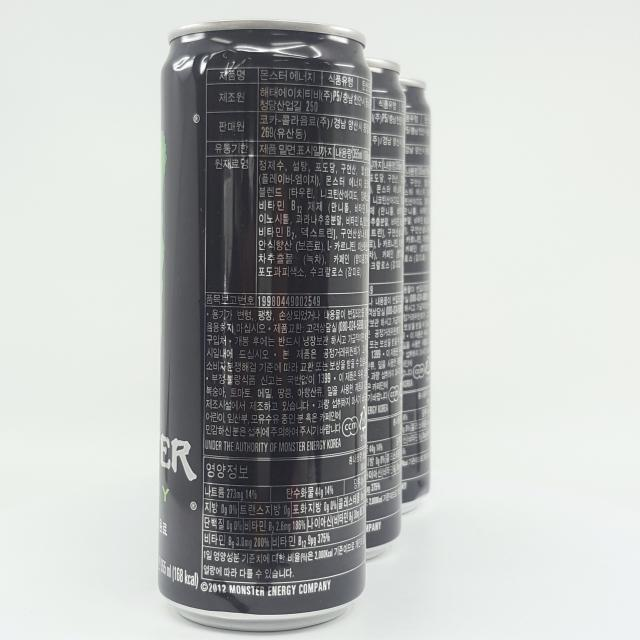--------355ML: (158, 19, 368, 632)
